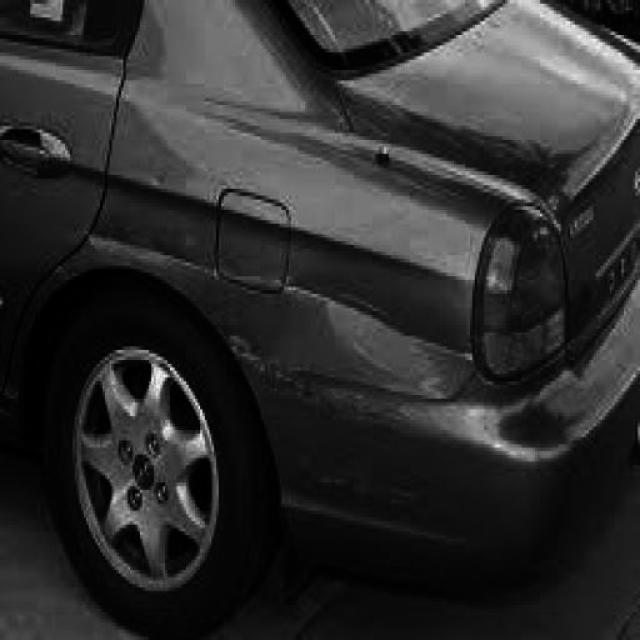car damage: (89, 230, 476, 390), (225, 320, 409, 430), (304, 444, 436, 523)
